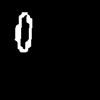chain: (15, 13, 31, 51)
